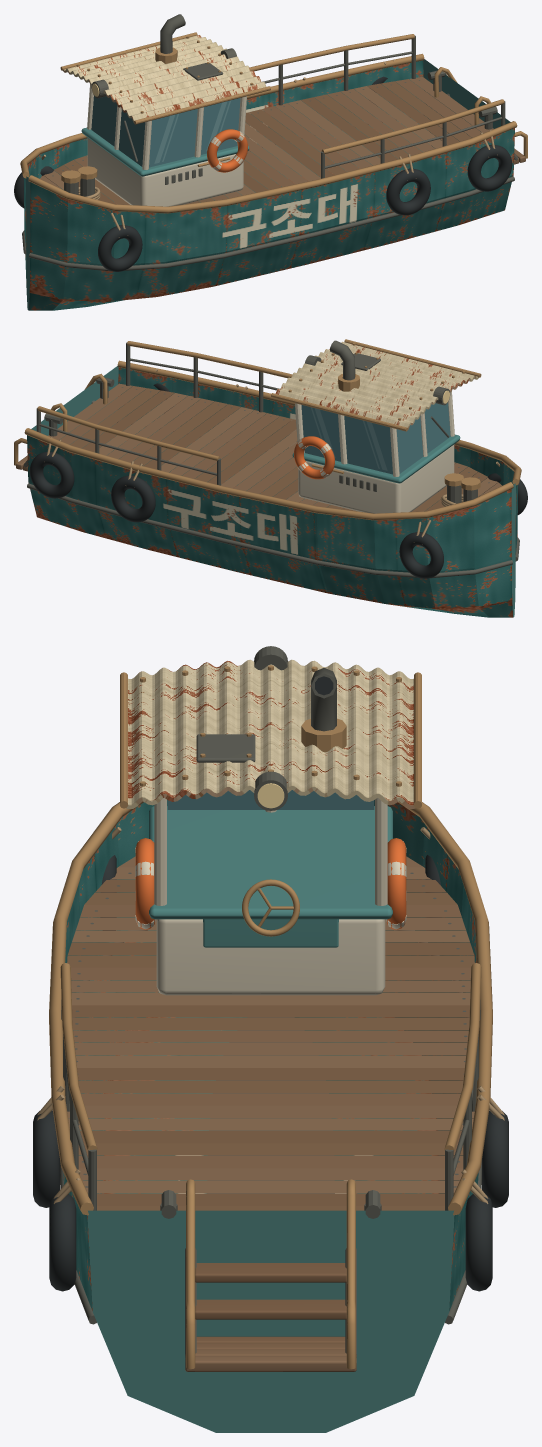
File: rescue-launch.glb
3 views of the same model, one above another, from view 1: azimuth 30°, elevation 25°; view 2: azimuth 150°, elevation 25°; view 3: azimuth 270°, elevation 25° (orthographic). The views are drawn at different scales.
Parts seen in each view (by area): view 1: RescueLaunch; view 2: RescueLaunch; view 3: RescueLaunch.
Boxes of the visible parts, x1,y1,x2,y2 form: RescueLaunch: [14, 14, 527, 310]; RescueLaunch: [14, 339, 527, 617]; RescueLaunch: [33, 646, 508, 1432].
Bounding box in the file's own units: 8.18 × 3.98 × 3.5.
17 materials, 2 textured.
